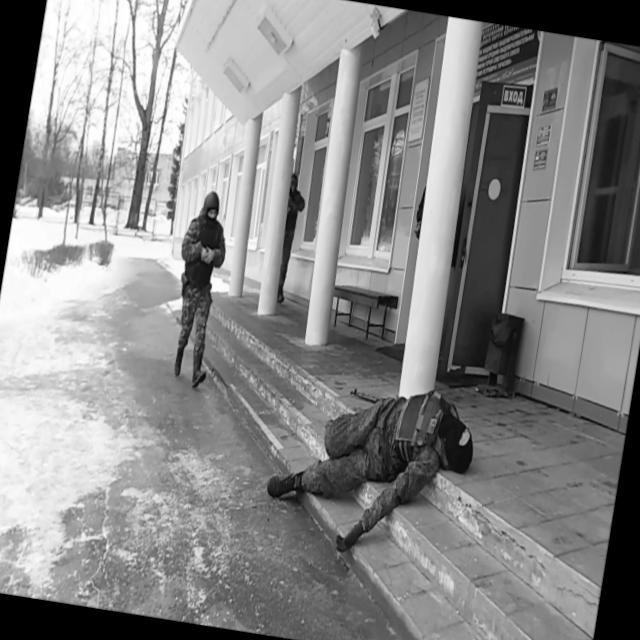gun: (348, 384, 387, 406)
person: (160, 186, 236, 389), (270, 171, 310, 308)
person with a gun: (259, 364, 482, 571)
